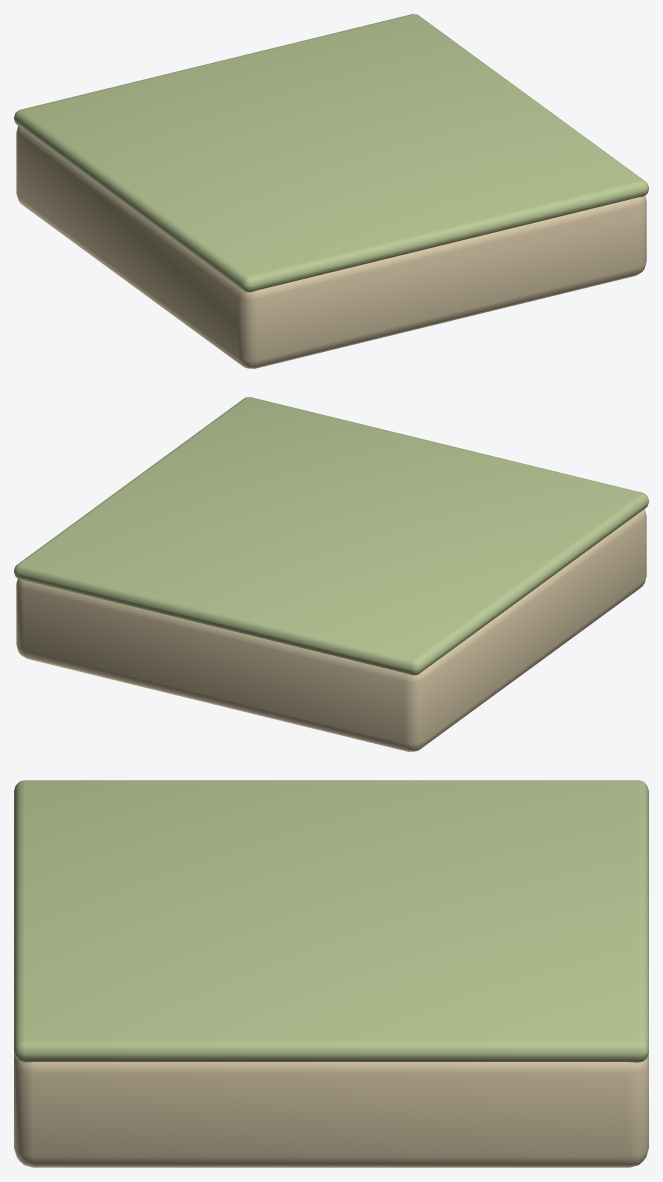
Rendered from tile.glb.
3 views of the same model, one above another, from view 1: azimuth 30°, elevation 25°; view 2: azimuth 150°, elevation 25°; view 3: azimuth 270°, elevation 25° (orthographic). The views are drawn at different scales.
Visible parts, largest first — view 1: sage turf, warm cream soil; view 2: sage turf, warm cream soil; view 3: sage turf, warm cream soil.
Part boxes in pixels (box(x1,y1,x2,y2)): sage turf: box(14, 14, 648, 292); warm cream soil: box(16, 126, 646, 368); sage turf: box(14, 397, 648, 675); warm cream soil: box(16, 509, 646, 751); sage turf: box(14, 780, 648, 1062); warm cream soil: box(14, 1053, 648, 1167).
Size of the model in its own units: 3.2 by 0.72 by 3.2.
